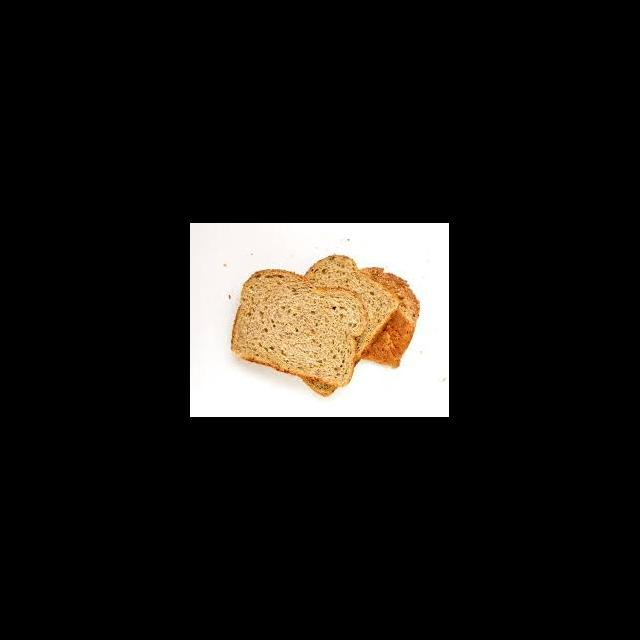food_waste: (227, 256, 426, 407)
